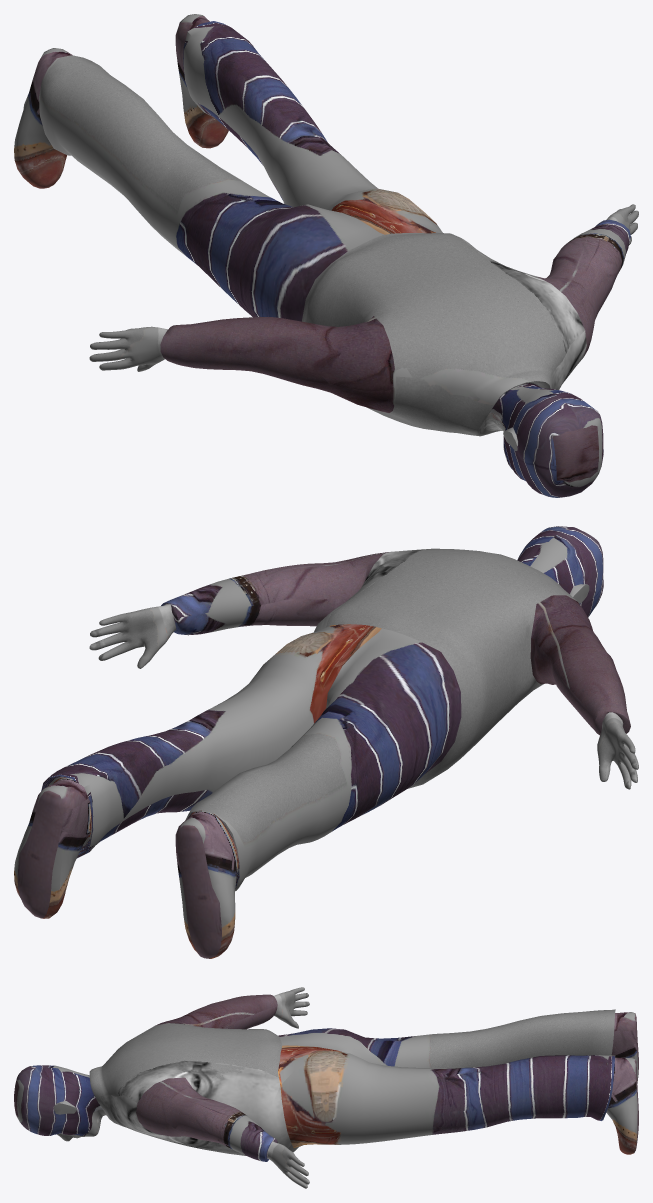
Rendered from paul.dae.
3 renders of one model, top to bottom at view 1: azimuth 30°, elevation 25°; view 2: azimuth 150°, elevation 25°; view 3: azimuth 270°, elevation 25°, orthographic. The views are drawn at different scales.
Parts seen in each view (by area): view 1: skp2F41; view 2: skp2F41; view 3: skp2F41.
Boxes of the visible parts, x1,y1,x2,y2 form: skp2F41: (14,14,638,497); skp2F41: (14,526,638,958); skp2F41: (14,987,638,1188).
Bounding box in the file's own units: 99.46 × 146 × 29.91.
1 material, 1 textured.
